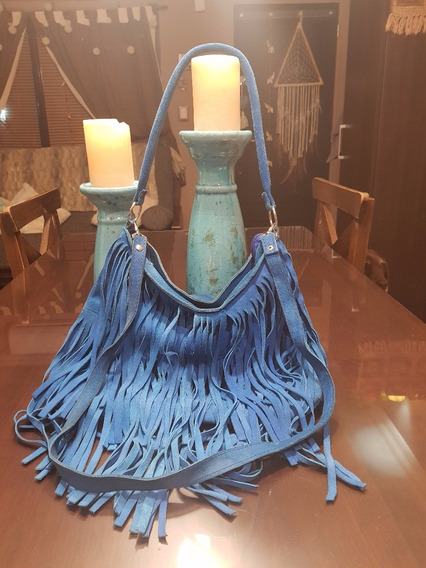cartera: (29, 41, 335, 452)
